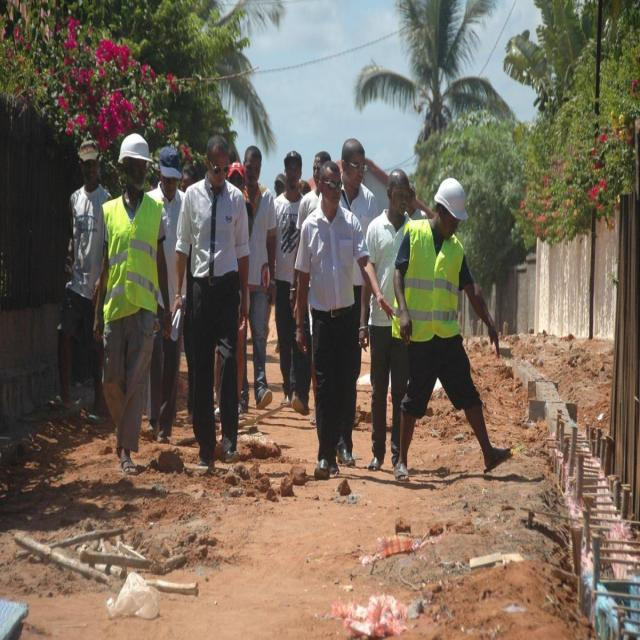boots: (251, 373, 276, 412), (290, 379, 312, 417), (310, 450, 336, 481), (217, 438, 244, 467), (337, 432, 357, 469), (233, 386, 252, 418), (198, 444, 215, 468), (367, 451, 383, 473), (278, 387, 292, 408)
gloves: (81, 302, 112, 340), (57, 273, 79, 302), (158, 309, 174, 340)
hardhat: (432, 176, 471, 237), (114, 127, 155, 179)
no_boots: (481, 443, 514, 474), (115, 446, 140, 484), (46, 380, 72, 414), (86, 393, 109, 423), (141, 412, 157, 444), (392, 458, 411, 482), (157, 421, 170, 447)
no_gloves: (368, 280, 402, 325), (479, 318, 505, 363), (293, 306, 314, 356), (395, 305, 416, 350), (234, 292, 254, 335), (168, 288, 190, 324), (353, 320, 375, 353), (262, 267, 280, 301), (286, 278, 300, 308), (414, 192, 424, 215)
no_hardhat: (201, 130, 234, 191), (338, 138, 368, 198), (156, 140, 185, 200), (73, 136, 104, 190), (321, 154, 347, 210), (390, 165, 414, 216), (174, 159, 203, 196), (312, 146, 332, 193), (243, 142, 263, 188), (226, 161, 246, 193), (284, 149, 302, 184), (297, 167, 311, 209), (272, 174, 286, 196)
no_vest: (174, 177, 255, 287), (296, 200, 368, 316), (147, 184, 190, 324), (367, 204, 412, 336), (68, 186, 112, 296), (336, 180, 380, 284), (243, 168, 276, 298), (266, 188, 302, 283), (296, 186, 319, 226)
person: (390, 173, 517, 488), (161, 131, 257, 470), (294, 158, 394, 480), (92, 130, 174, 480), (44, 129, 110, 428), (361, 162, 419, 485), (147, 136, 191, 458), (242, 142, 278, 418), (282, 142, 305, 202), (405, 182, 423, 221), (297, 176, 313, 204)
vest: (393, 213, 477, 346), (97, 186, 168, 329)
